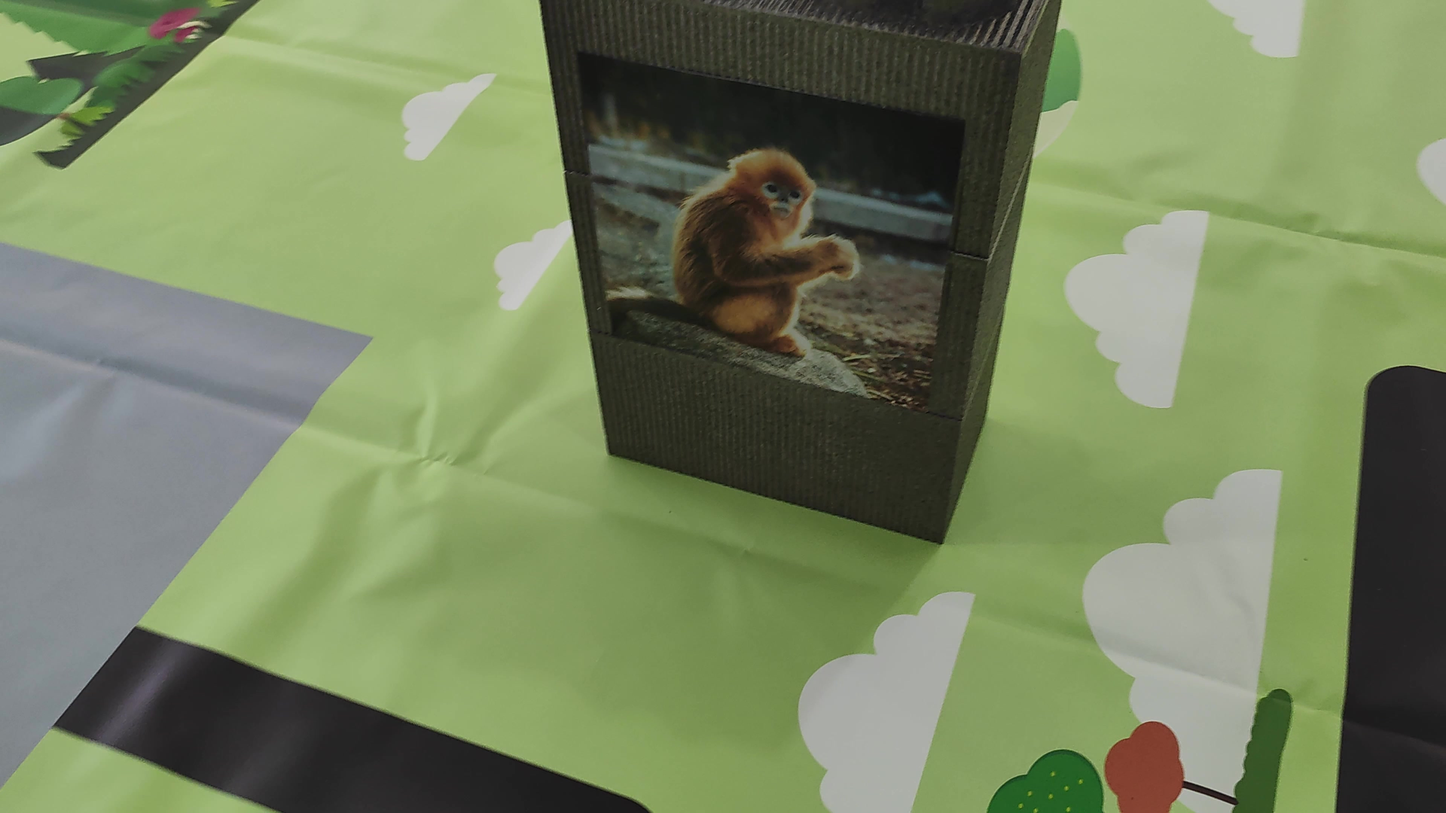monkey: (651, 113, 886, 355)
